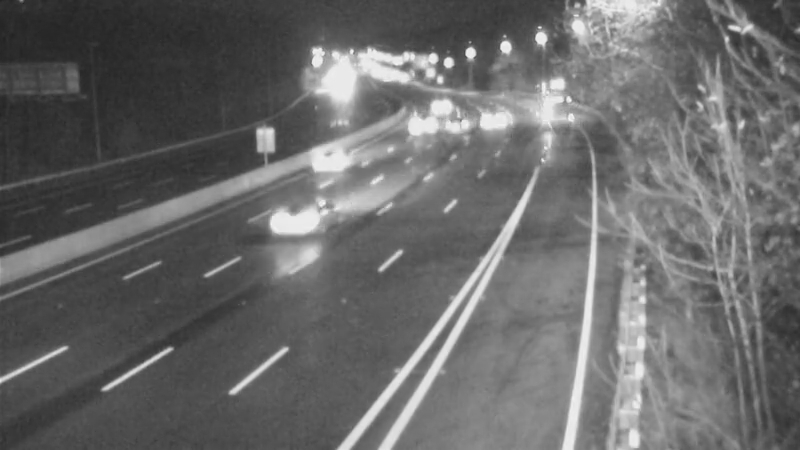vehicle: (292, 114, 372, 194), (251, 172, 331, 252), (401, 96, 451, 146), (516, 74, 566, 124), (414, 79, 464, 129), (466, 99, 516, 149), (429, 100, 479, 150)
